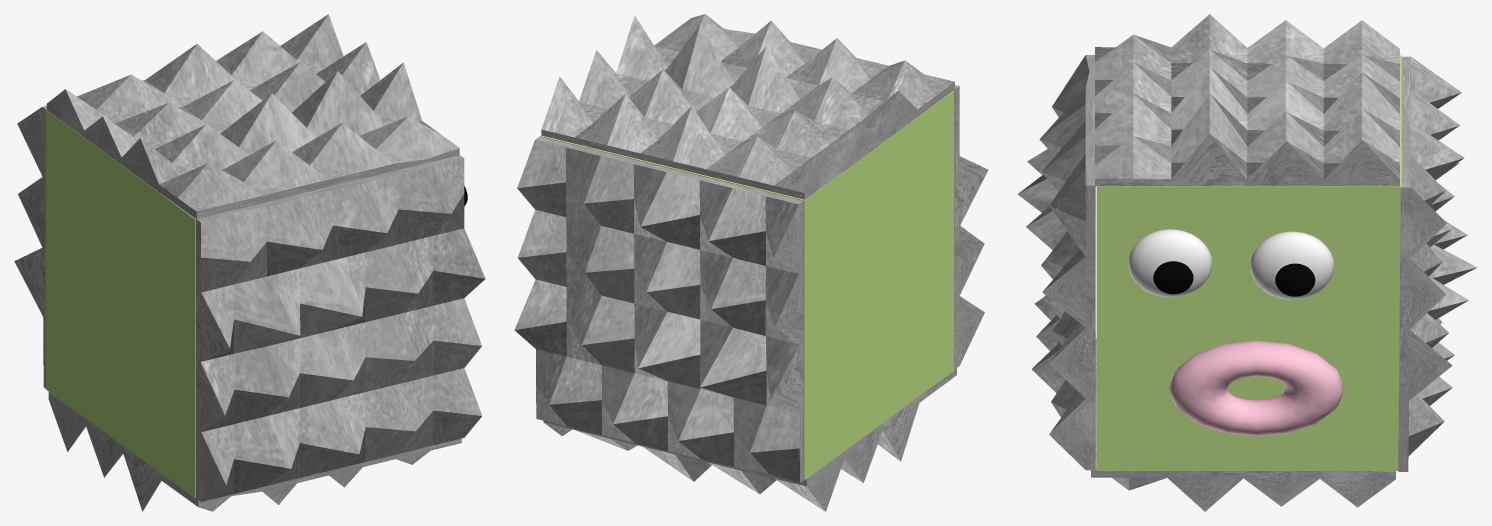
Rendered from Rock_001_1031.fbx.
3 renders of one model, left to right at view 1: azimuth 30°, elevation 25°; view 2: azimuth 150°, elevation 25°; view 3: azimuth 270°, elevation 25°, orthographic.
Visible parts, largest first — view 1: Rock.001; view 2: Rock.001; view 3: Rock.001.
Boxes of the visible parts, x1,y1,x2,y2 form: Rock.001: [14, 14, 485, 511]; Rock.001: [514, 14, 988, 511]; Rock.001: [1017, 14, 1477, 511].
Size of the model in its own units: 977 by 791 by 1005.
